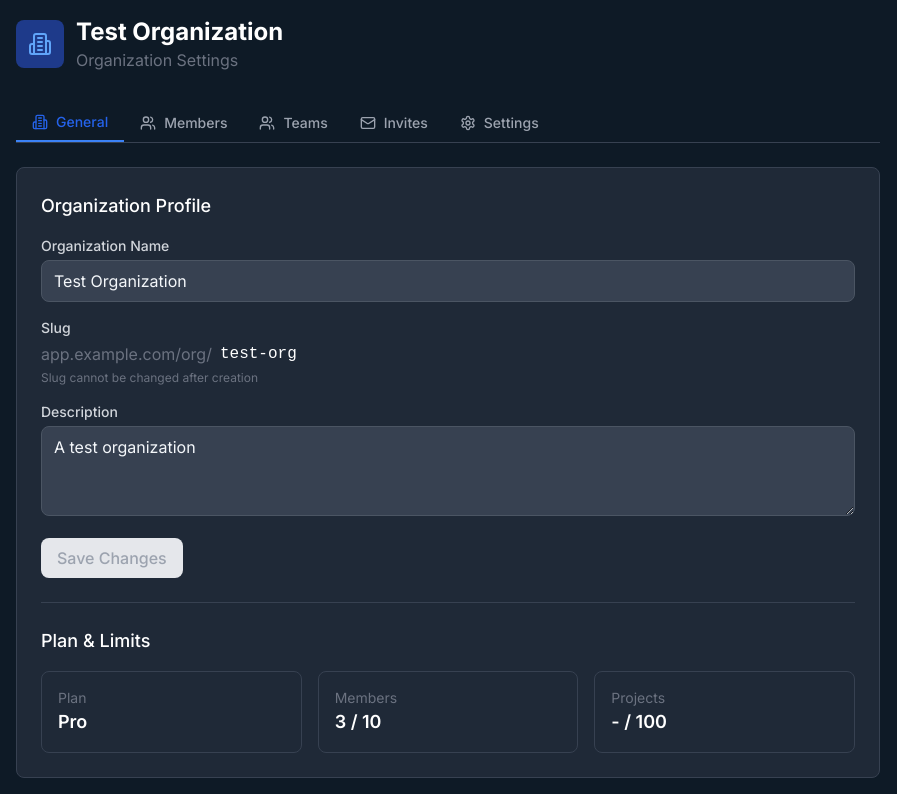
Test: OrganizationSettingsPage › Admin Role Check › hides admin features when user is regular member
Check: the heading "Test Organization" is shown, box [76,16,283,48]
Switch to members tab
Click the button "Members" at (184, 123), box [124,104,244,142]
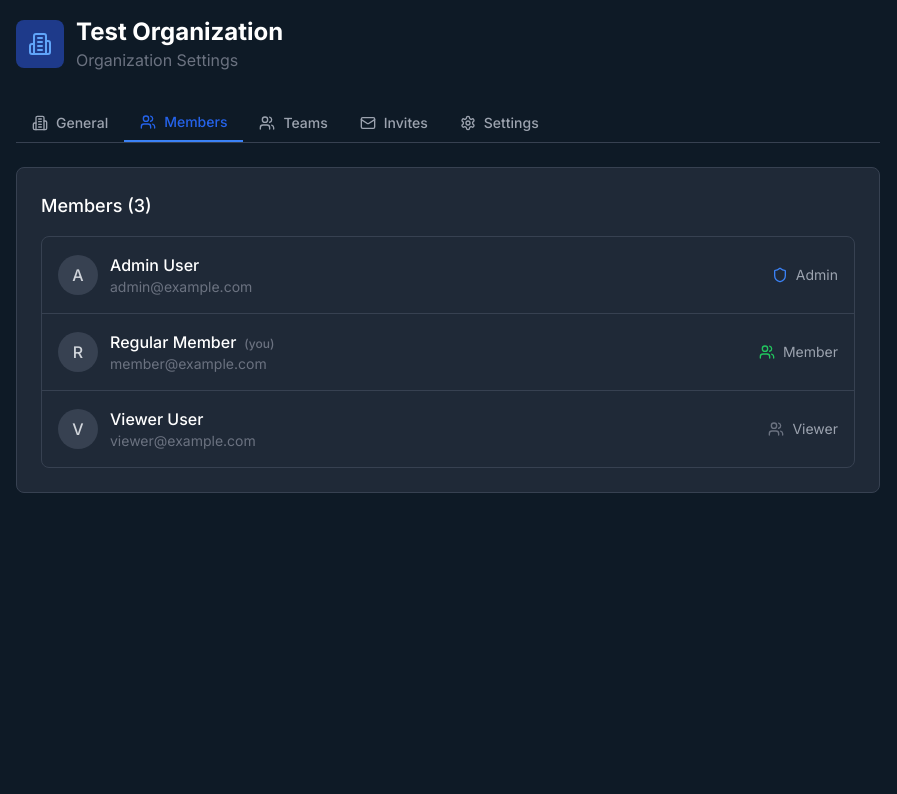
Check: the text "Regular Member" is shown, box [110,332,236,352]
